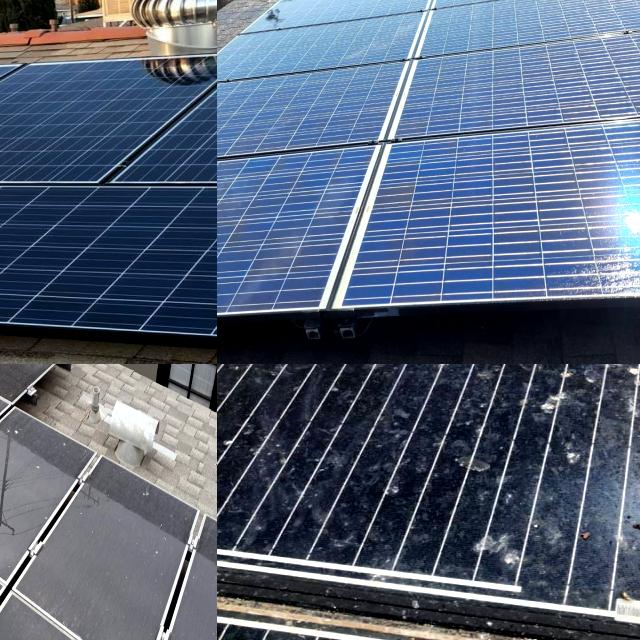bird: (406, 432, 586, 604), (277, 364, 479, 416), (567, 364, 640, 444), (378, 364, 482, 407), (506, 364, 583, 419), (491, 364, 590, 405), (474, 364, 559, 395), (581, 364, 640, 396)
crack: (336, 112, 640, 364), (0, 150, 217, 364), (0, 25, 217, 218), (381, 13, 640, 162), (217, 161, 388, 332), (0, 55, 183, 211), (121, 27, 217, 303), (217, 14, 506, 85), (401, 0, 640, 61), (217, 87, 377, 148)
dust: (88, 466, 176, 623), (0, 468, 67, 617), (0, 513, 39, 637), (0, 539, 34, 640), (0, 364, 37, 415)
